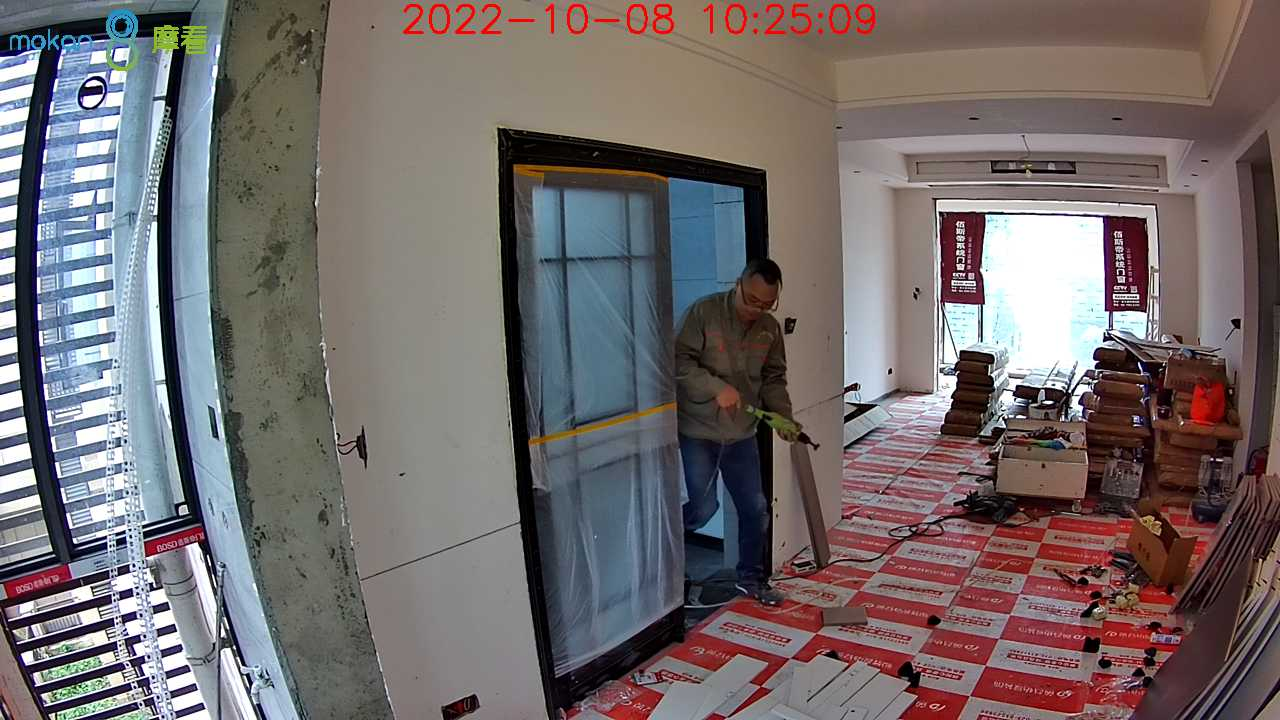people: (677, 258, 786, 608)
window: (939, 207, 1159, 365)
